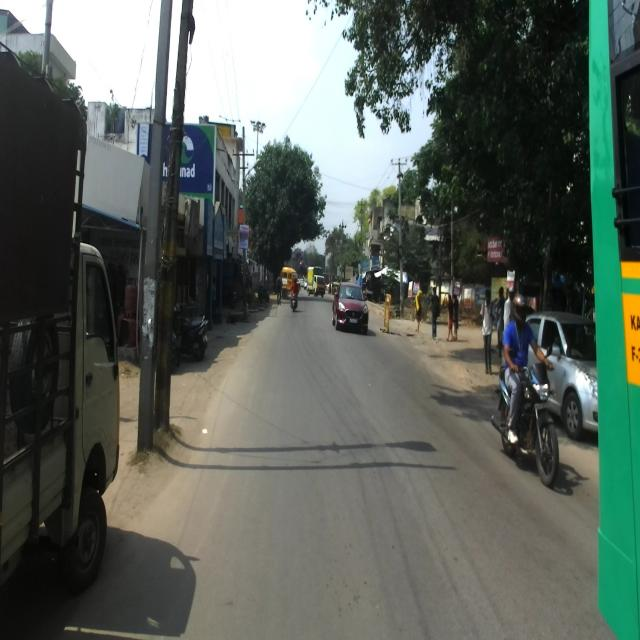car: (524, 311, 600, 440), (331, 283, 370, 334)
motorcycle: (490, 342, 559, 487)
scooter: (169, 302, 209, 361)
truck: (0, 37, 129, 606)
